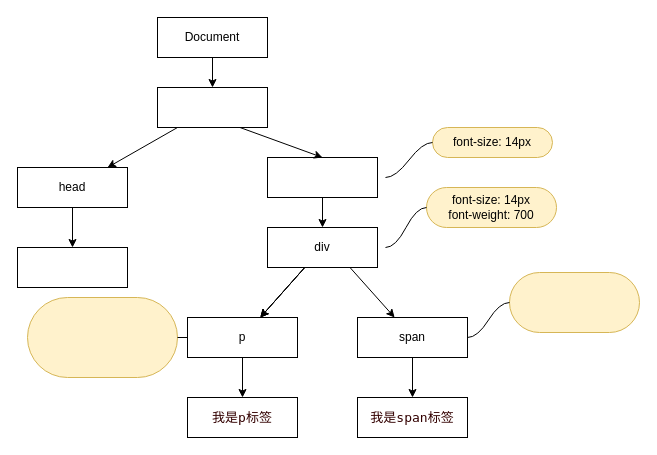
Image size: 657x455. Some labels were removed from this diagram. Each missing label, with the centre of its shape:
"body" belongs at point 322,177.
"font-size: 14px font-weight: 700 color: rgb(0,0,255); color: rgb(0,128,0)" belongs at point 102,337.
"font-size: 14px font-weight: 700 display: none" belongs at point 574,302.
"html" belongs at point 212,107.
"link" belongs at point 72,267.
